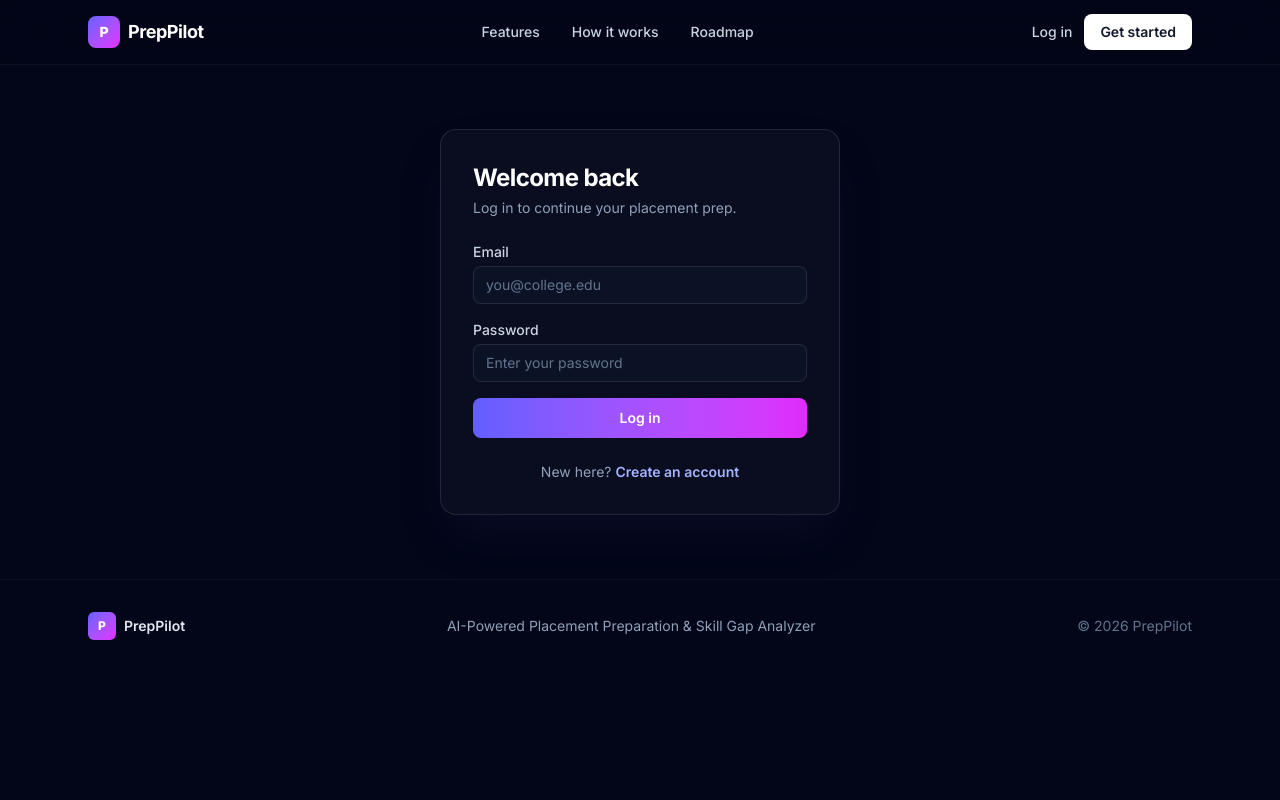
submits login credentials and navigates to the profile
Type "asha@example.com" into the field labelled "Email" at (640, 285), box [473,266,807,304]
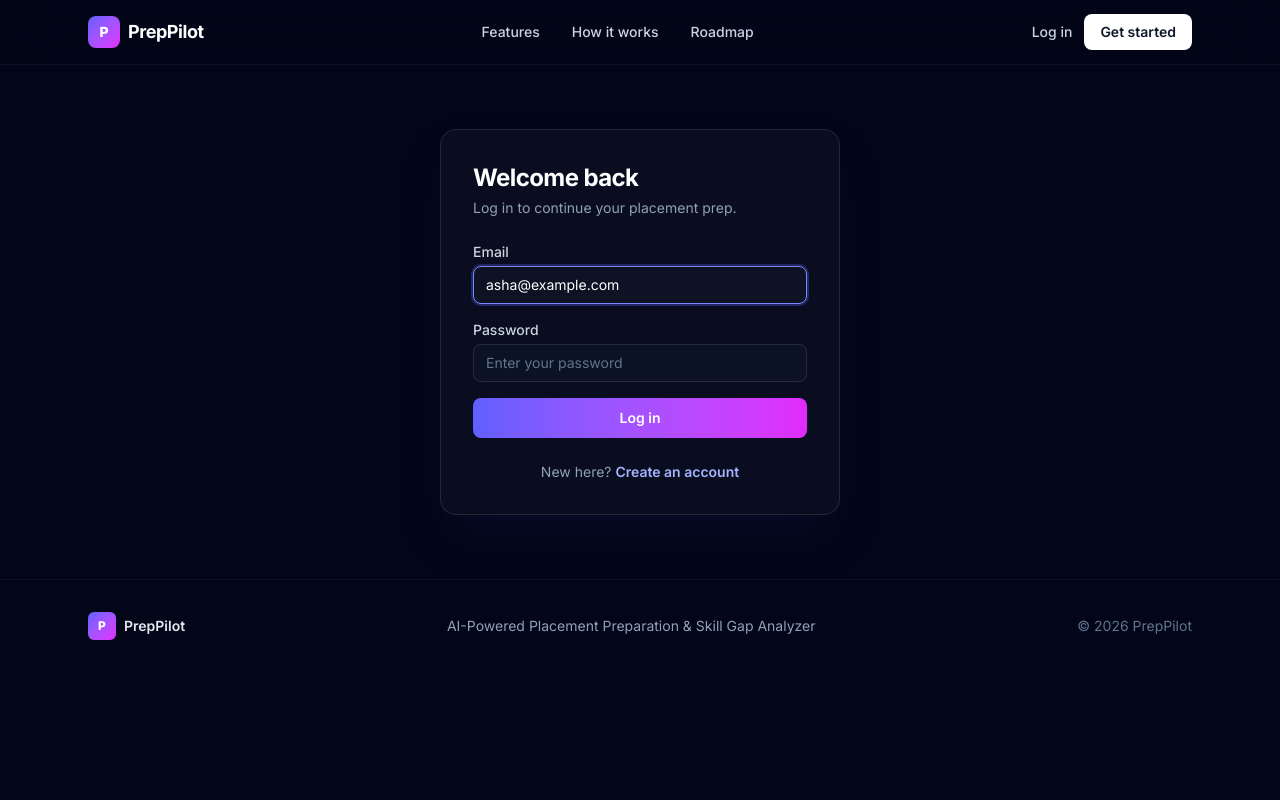
Type "Passw0rd1" into the password field labelled "Password" at (640, 363), box [473,344,807,382]
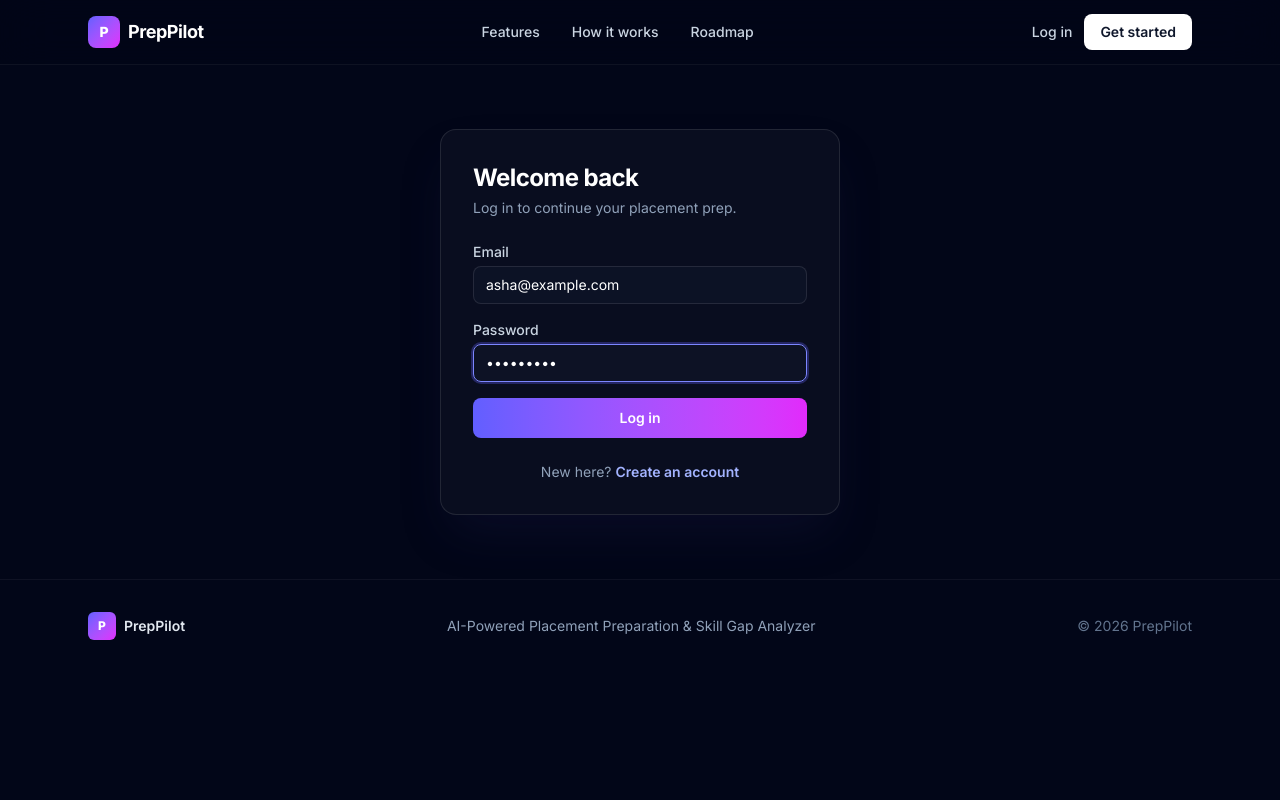
Click the button "Log in" at (640, 418), box [473,398,807,438]
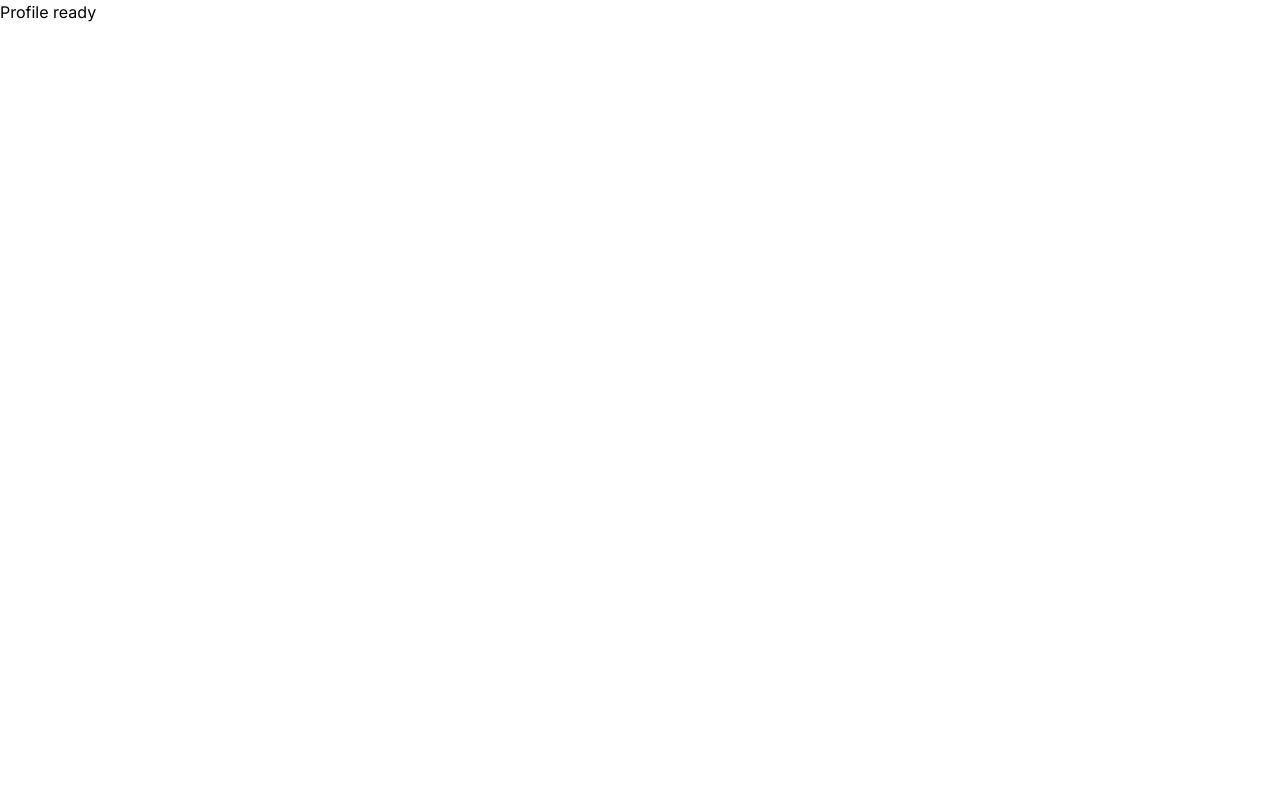
Now the text "Profile ready" is shown, box [0,2,96,22]
